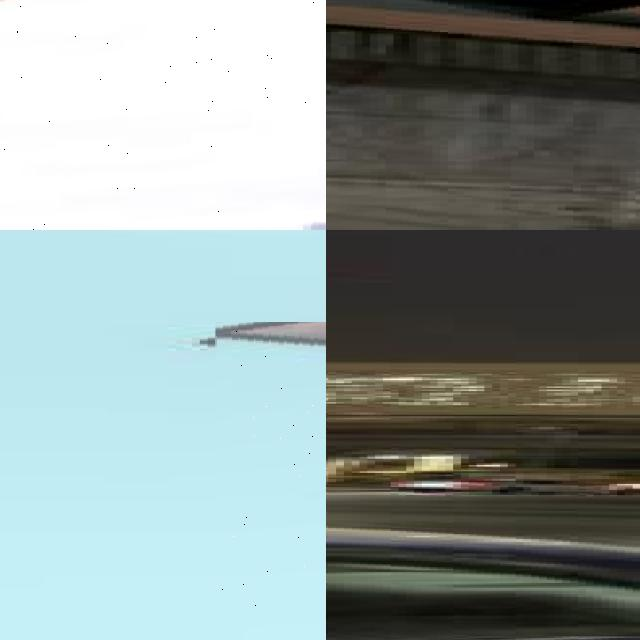street light: (0, 0, 326, 230), (215, 322, 326, 640)
